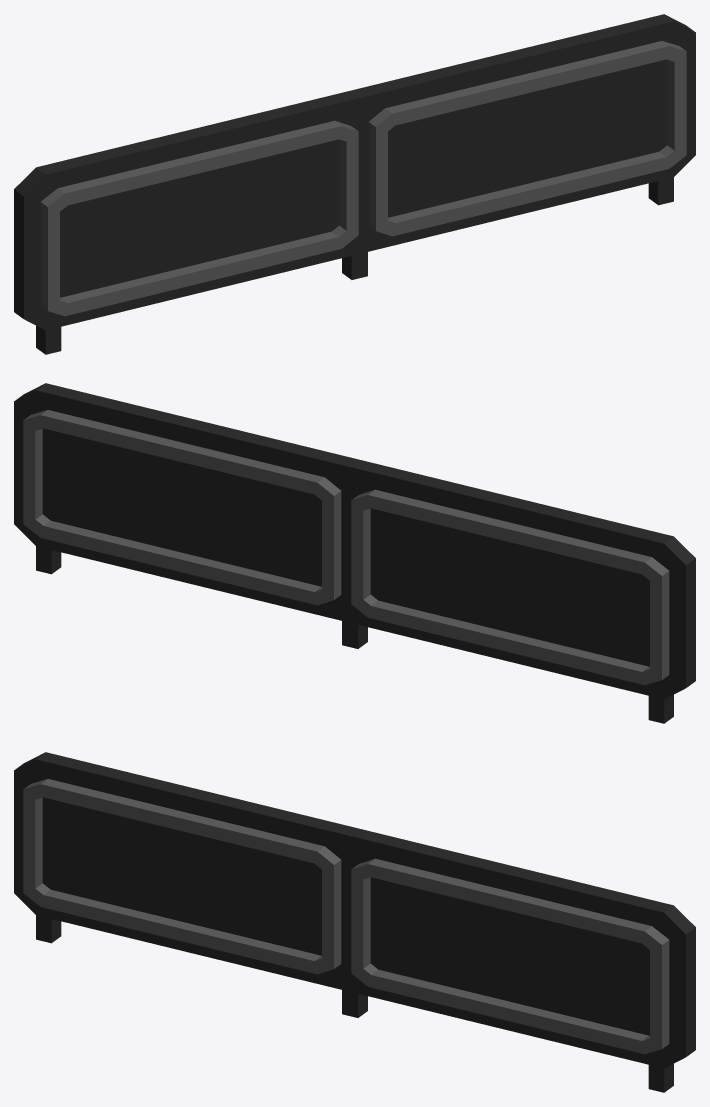
Rendered from halfwall.fbx.
3 renders of one model, top to bottom at view 1: azimuth 30°, elevation 25°; view 2: azimuth 150°, elevation 25°; view 3: azimuth 330°, elevation 25°, orthographic.
Visible parts, largest first — view 1: Cube; view 2: Cube; view 3: Cube.
Part boxes in pixels (box(x1,y1,x2,y2)): Cube: box(14, 14, 695, 354); Cube: box(14, 383, 695, 723); Cube: box(14, 752, 695, 1092).
Bounding box in the file's own units: 903 × 231 × 56.75.
